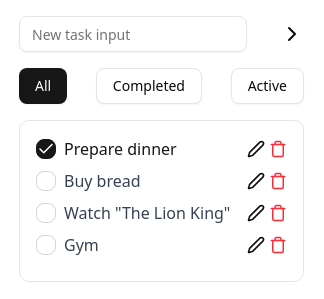
Test: MainTemplate › should render all tasks when "All" button is clicked
The image size is (324, 299).
Click the button "Active".
click(267, 86)  # box [231,68,304,104]
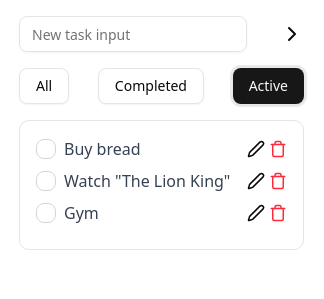
Click the button "All".
click(44, 86)  # box [19,68,69,104]
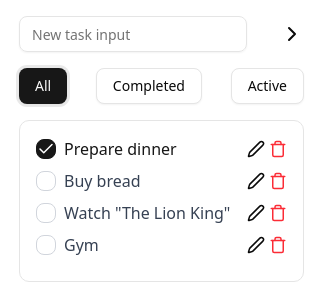
Expected: the text "Buy bread" is shown, [64,169,141,193]
Expected: the text "Prepare dinner" is shown, [64,137,177,161]
